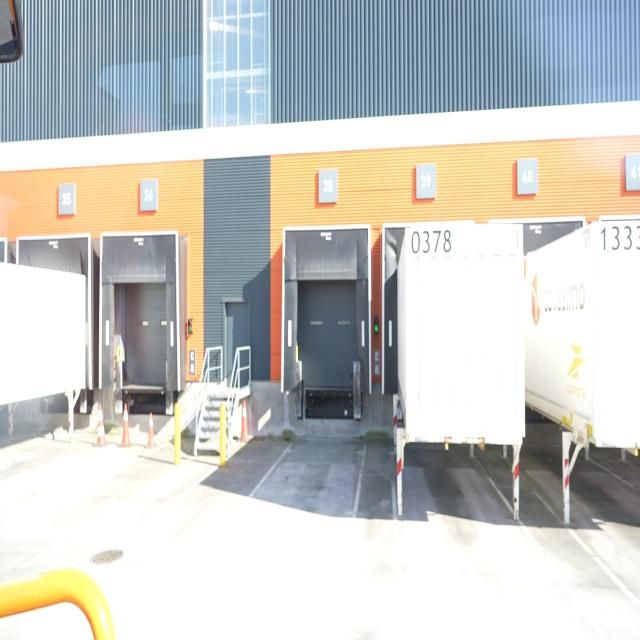Code: (408, 224, 454, 259)
